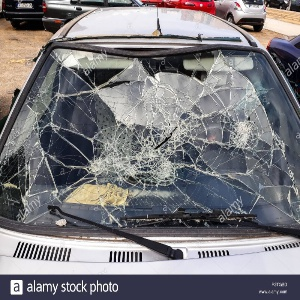front_windshield_glass: (35, 96, 276, 226)
